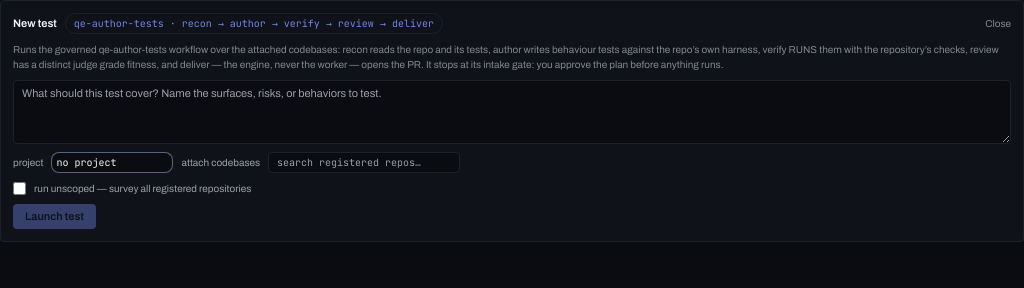
project chips are DROPPABLE (F-076 / F-7R2-010) › drop two of three members on a daemon WITHOUT /testing/author ⇒ ONE POST /runs for the remaining repo with workflow + intake gate + projectId (filed); the dropp
Check: the text "qe-author-tests · recon → author → verify → review → deliver" is shown, box [65,13,443,34]
Select "wicked platform" in the dropdown with test id "testing-launch-project" at (112, 162), box [52,152,174,173]
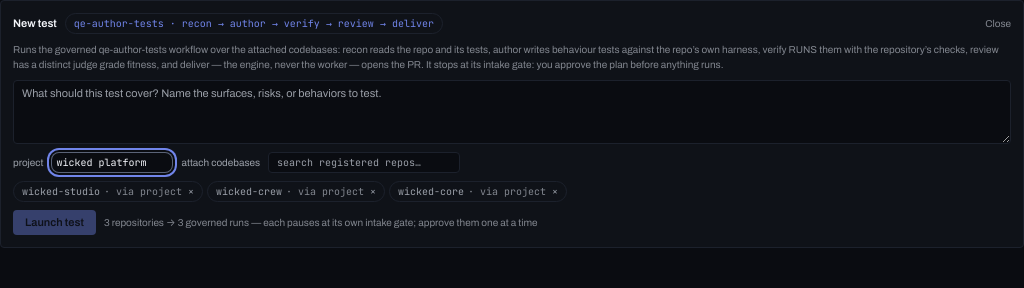
Click the button named "Drop wicked-crew from this test" at (373, 192), box [370,184,376,199]
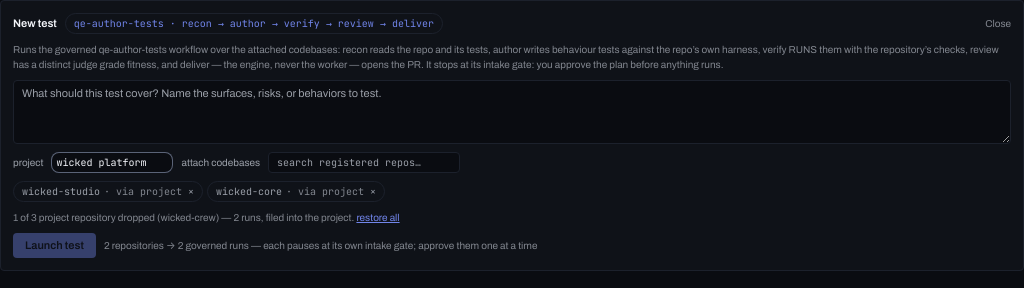
Click the button named "Drop wicked-core from this test" at (373, 192), box [370,184,376,199]
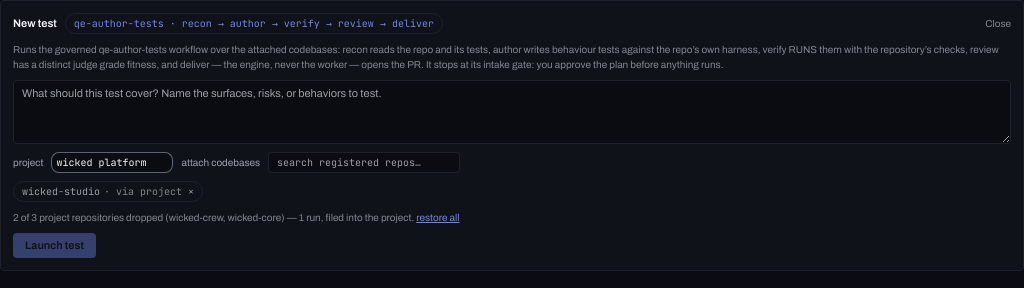
Check: the element with test id "testing-launch-dropped" shows "2 of 3 project repositories dropped (wicked-crew, wicked-core) — 1 run, filed into the project", box [13,210,460,225]
Type "Only studio" into the text box with test id "testing-launch-instructions" at (512, 112), box [13,80,1011,144]
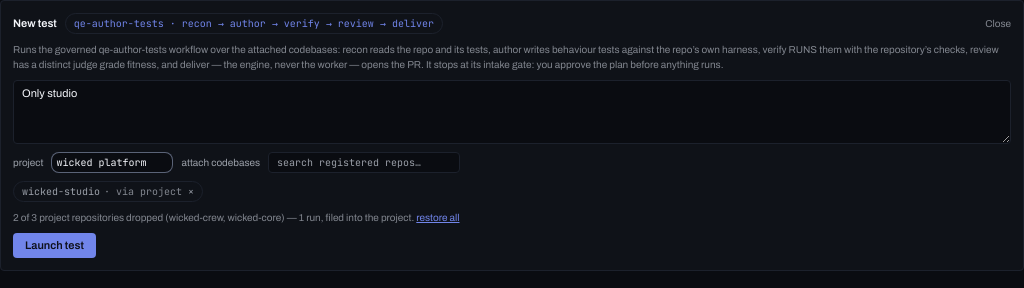
Click the button with test id "testing-launch-submit" at (54, 245), box [13,233,96,258]
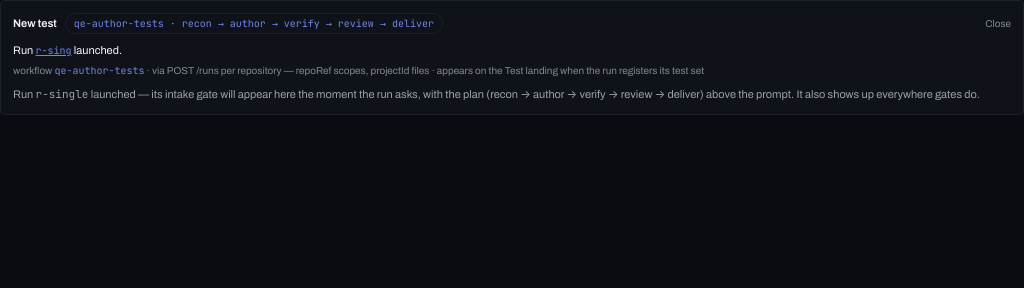
Check: the element with test id "testing-launch-waiting" is shown, box [13,86,1011,102]
Check: the element with test id "testing-launch-route" shows "via POST /runs per repository — repoRef scopes, projectId files", box [152,64,429,76]
